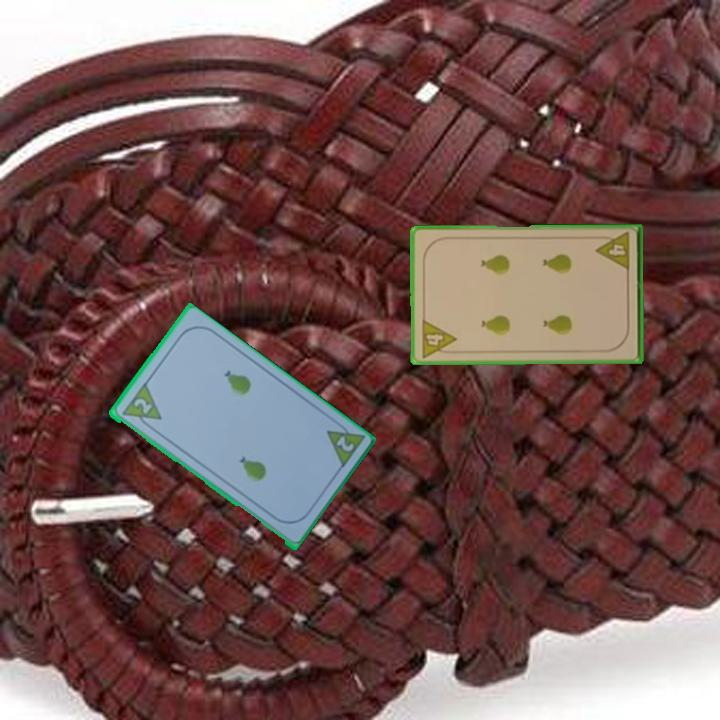2p: (332, 432, 357, 455), (130, 394, 154, 417)
4p: (418, 316, 459, 360), (593, 229, 632, 273)
